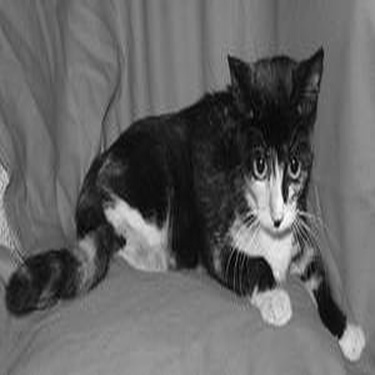cat: (9, 40, 366, 360)
